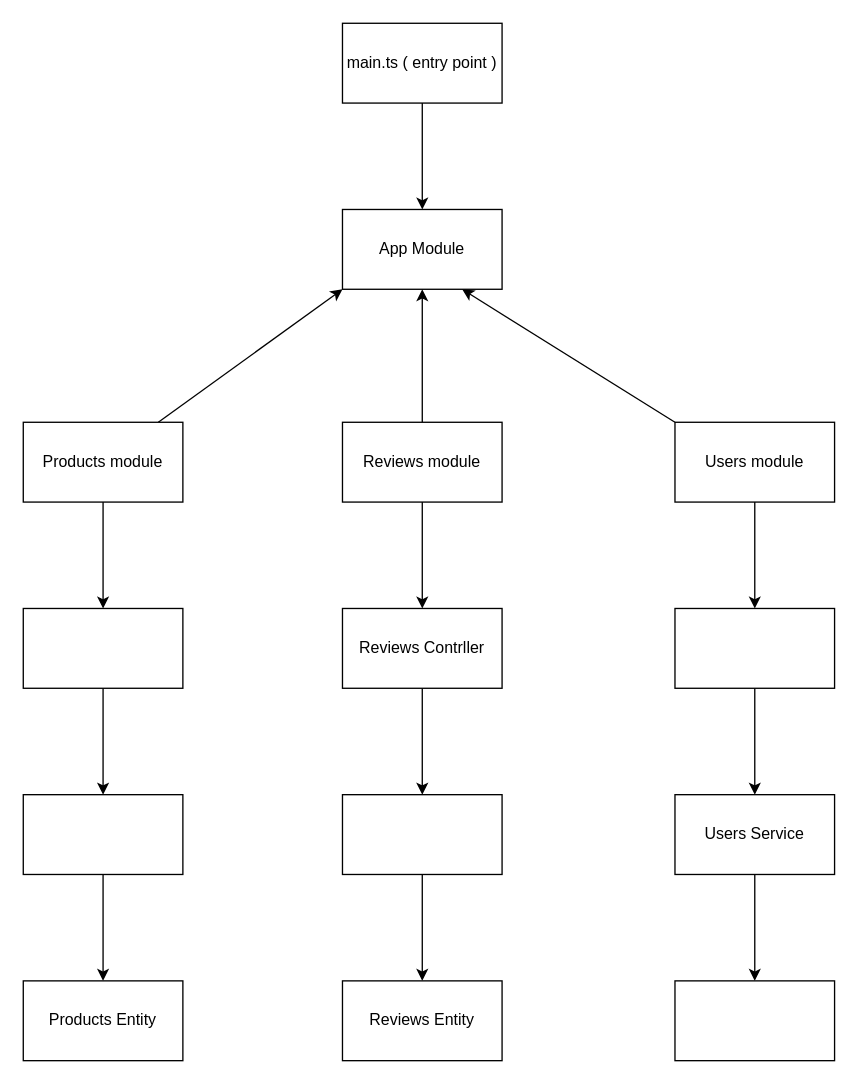
Image size: 858x1084. Some labels were removed from this diagram. Each missing label, with the centre of its shape:
"Products Contrller" belongs at (x=102, y=647).
"Products Service" belongs at (x=102, y=833).
"Reviews Service" belongs at (x=421, y=833).
"User Entity" belongs at (x=754, y=1020).
"Users Contrller" belongs at (x=754, y=647).
